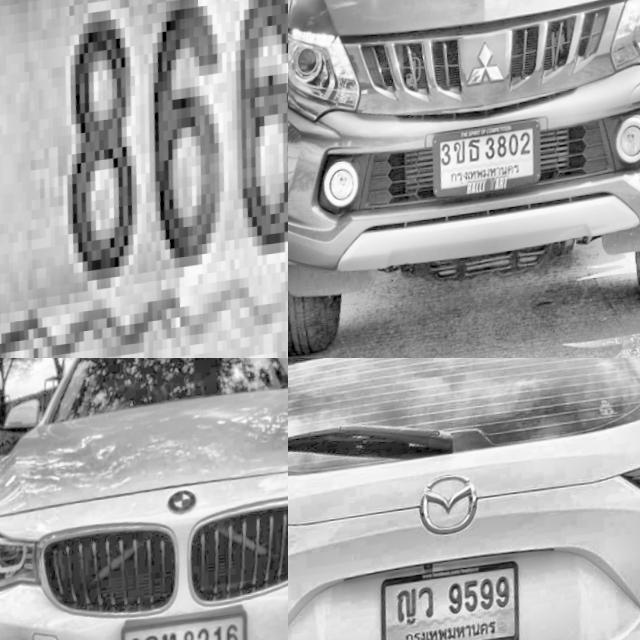license-plate: (0, 0, 288, 358), (377, 557, 532, 640), (436, 117, 550, 201), (117, 597, 268, 640)
